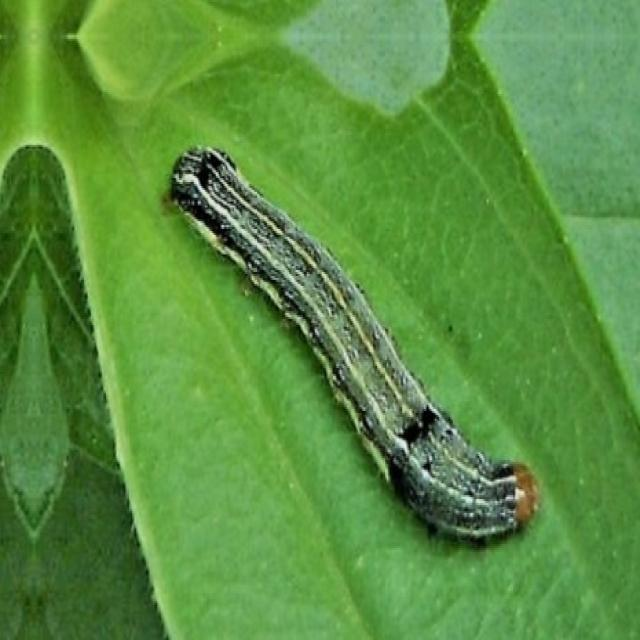armyworm: (168, 141, 538, 544)
